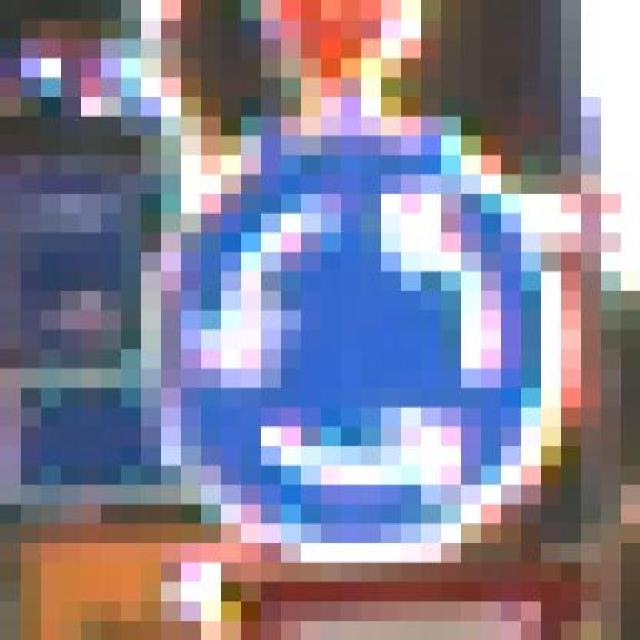Round-About: (120, 136, 600, 582)
